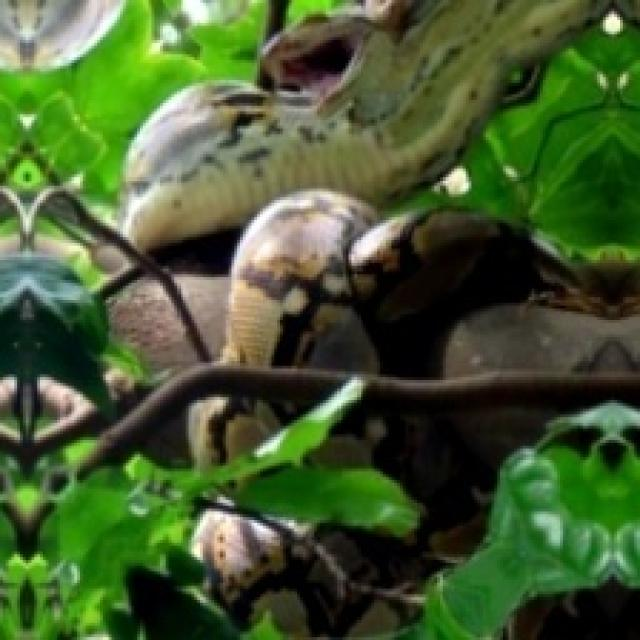reticulated python: (123, 0, 611, 249), (223, 189, 640, 377), (191, 411, 540, 631), (223, 189, 566, 374), (189, 397, 294, 466)
